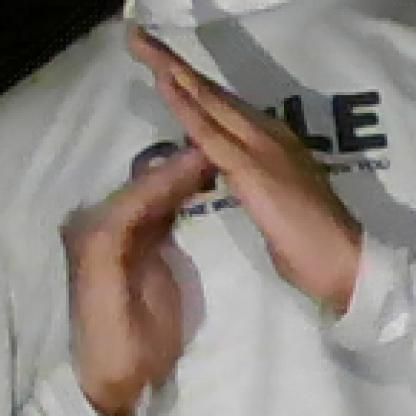Z: (49, 20, 345, 372)
